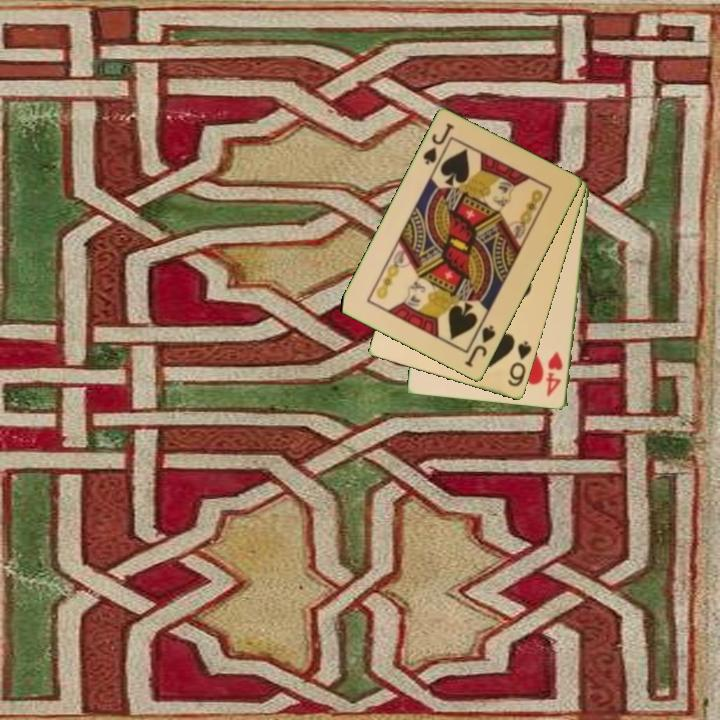4h: (543, 349, 566, 400)
6s: (504, 338, 535, 390)
Js: (419, 120, 458, 172), (461, 322, 498, 371)
